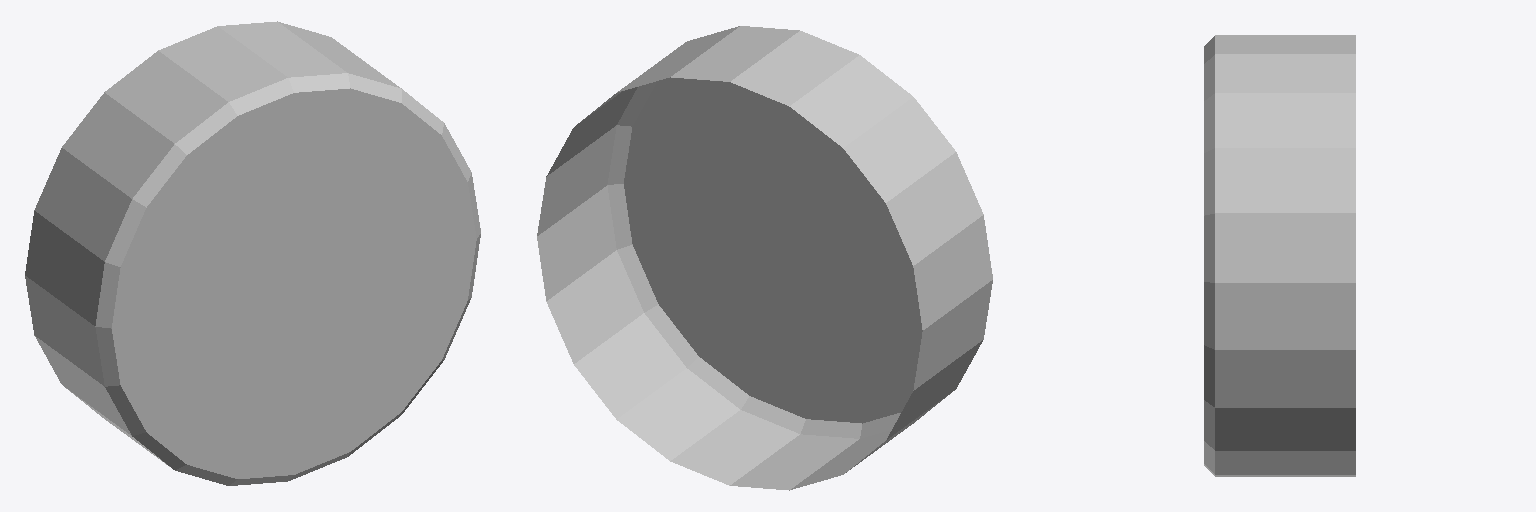
Rendered from twist.obj.
The picture shows the model from 3 angles: view 1: azimuth 30°, elevation 25°; view 2: azimuth 150°, elevation 25°; view 3: azimuth 270°, elevation 25°; orthographic projection.
Parts seen in each view (by area): view 1: pCylinder41; view 2: pCylinder41; view 3: pCylinder41.
Part boxes in pixels (x1,y1,x2,y2): pCylinder41: (25, 21, 480, 485); pCylinder41: (537, 26, 992, 490); pCylinder41: (1204, 35, 1355, 476).
Bounding box in the file's own units: 0.3978 × 0.3978 × 0.1364.